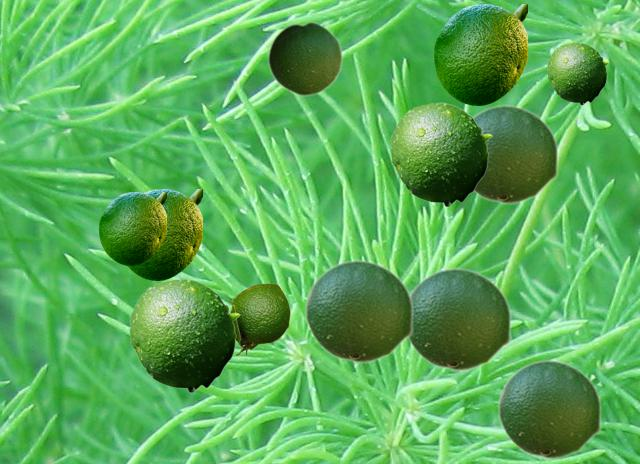dalandan: (129, 278, 239, 392), (304, 259, 413, 363), (408, 267, 511, 371), (390, 102, 491, 206), (497, 359, 601, 459), (434, 4, 526, 104), (472, 104, 558, 204), (126, 189, 201, 279), (267, 20, 342, 96), (99, 192, 165, 264), (227, 283, 289, 355), (547, 42, 608, 104)
